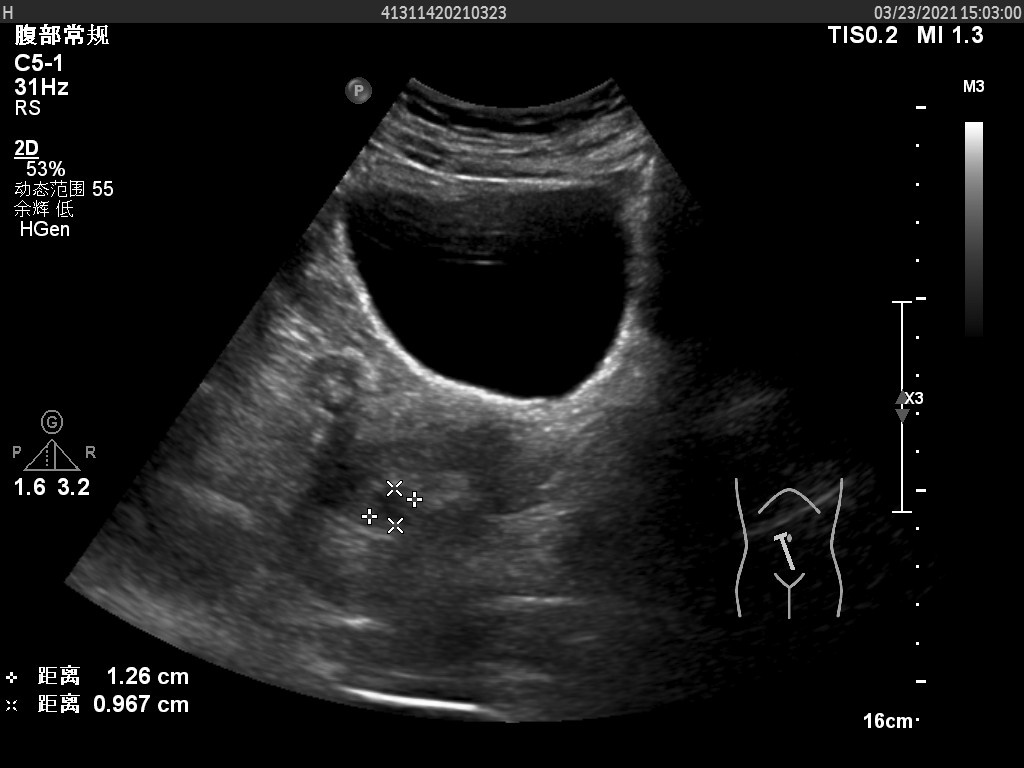肌瘤: (372, 491, 412, 526)
